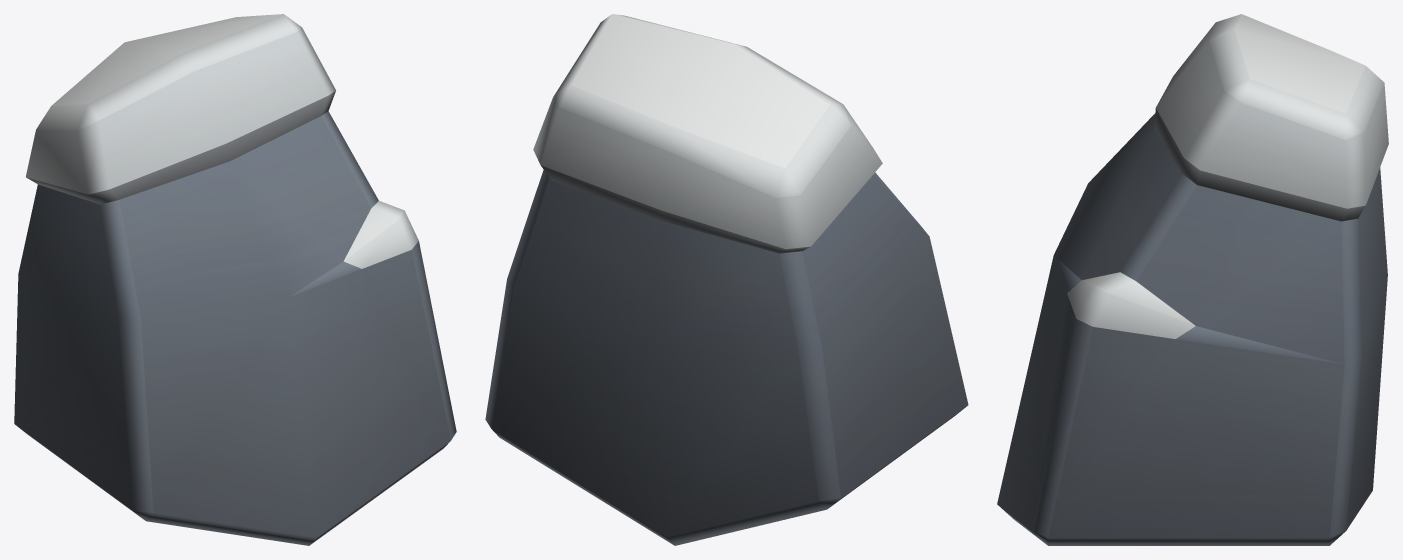
Rendered from rock_snow_017.fbx.
3 renders of one model, left to right at view 1: azimuth 30°, elevation 25°; view 2: azimuth 150°, elevation 25°; view 3: azimuth 270°, elevation 25°, orthographic. The views are drawn at different scales.
Parts seen in each view (by area): view 1: rock_snow_017; view 2: rock_snow_017; view 3: rock_snow_017.
Boxes of the visible parts, left/top/right/bottom form: rock_snow_017: left=14, top=14, right=456, bottom=545; rock_snow_017: left=485, top=14, right=968, bottom=545; rock_snow_017: left=997, top=14, right=1388, bottom=545.
Size of the model in its own units: 180 by 231 by 170.
